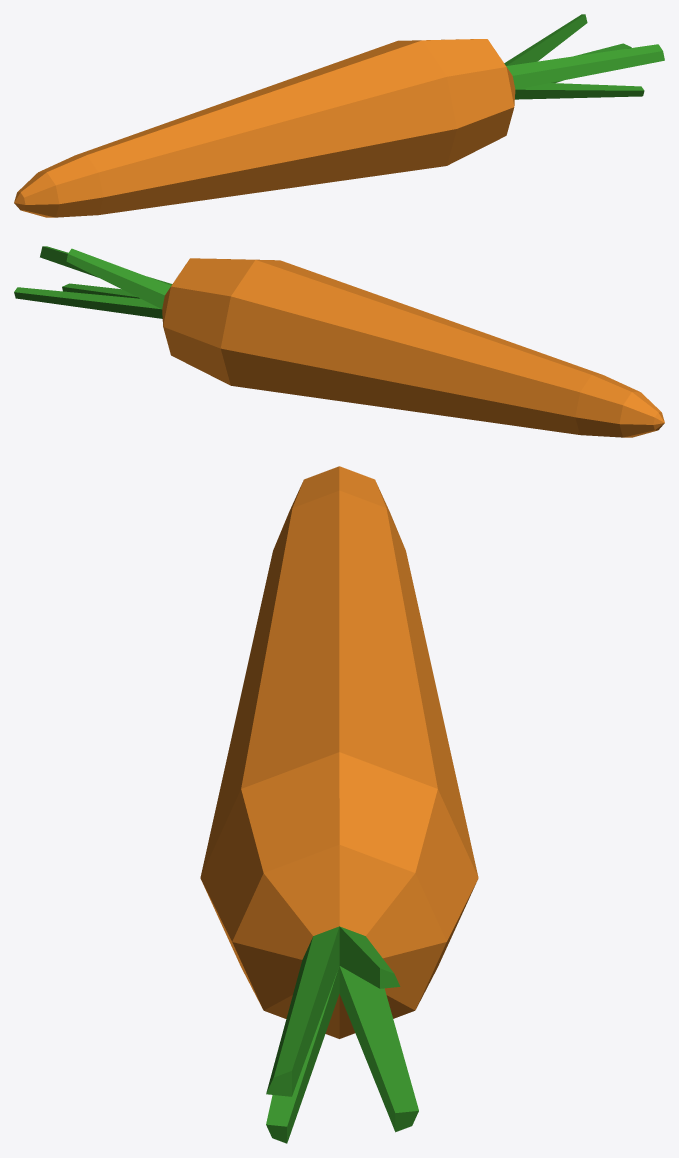
Rendered from Carrot.fbx.
3 views of the same model, one above another, from view 1: azimuth 30°, elevation 25°; view 2: azimuth 150°, elevation 25°; view 3: azimuth 270°, elevation 25° (orthographic). The views are drawn at different scales.
Parts seen in each view (by area): view 1: Carrot.001, Carrot.003, Carrot.004, Carrot.005, Carrot.006, Carrot.007, Carrot.008, Carrot.009, Carrot.002, Carrot.010, Carrot.011; view 2: Carrot.001, Carrot.003, Carrot.004, Carrot.005, Carrot.006, Carrot.007, Carrot.008, Carrot.009, Carrot.002, Carrot.010, Carrot.011; view 3: Carrot.001, Carrot.002, Carrot.003, Carrot.004, Carrot.005, Carrot.006, Carrot.007, Carrot.008, Carrot.009, Carrot.010.
Part boxes in pixels (<box>): Carrot.001: <box>441,14,664,150</box>; Carrot.003: <box>352,40,456,172</box>; Carrot.004: <box>306,56,406,179</box>; Carrot.005: <box>260,73,355,186</box>; Carrot.006: <box>214,89,305,193</box>; Carrot.007: <box>168,106,254,200</box>; Carrot.008: <box>122,122,204,207</box>; Carrot.009: <box>76,138,153,214</box>; Carrot.002: <box>412,39,485,165</box>; Carrot.010: <box>38,155,103,217</box>; Carrot.011: <box>14,172,59,217</box>; Carrot.001: <box>14,246,230,370</box>; Carrot.003: <box>220,260,325,392</box>; Carrot.004: <box>271,276,371,399</box>; Carrot.005: <box>322,292,417,406</box>; Carrot.006: <box>372,309,464,413</box>; Carrot.007: <box>423,325,510,420</box>; Carrot.008: <box>474,342,556,427</box>; Carrot.009: <box>524,358,602,434</box>; Carrot.002: <box>192,259,274,385</box>; Carrot.010: <box>575,375,640,437</box>; Carrot.011: <box>619,392,664,437</box>; Carrot.001: <box>216,798,462,1143</box>; Carrot.002: <box>200,752,478,985</box>; Carrot.003: <box>200,714,478,876</box>; Carrot.004: <box>211,677,467,829</box>; Carrot.005: <box>221,640,457,783</box>; Carrot.006: <box>231,602,447,736</box>; Carrot.007: <box>242,565,436,689</box>; Carrot.008: <box>252,528,426,642</box>; Carrot.009: <box>263,490,415,595</box>; Carrot.010: <box>275,466,403,545</box>.
Bounding box in the file's own units: 479 × 90.82 × 90.82.
